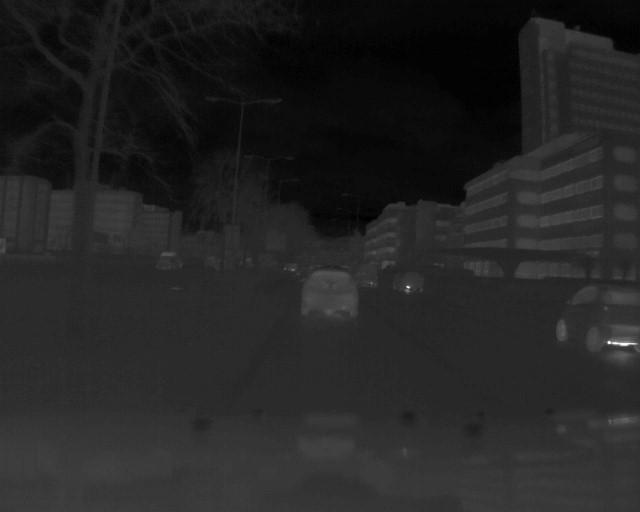car: (553, 280, 640, 356), (303, 265, 358, 322), (393, 272, 424, 297), (152, 249, 182, 274)
